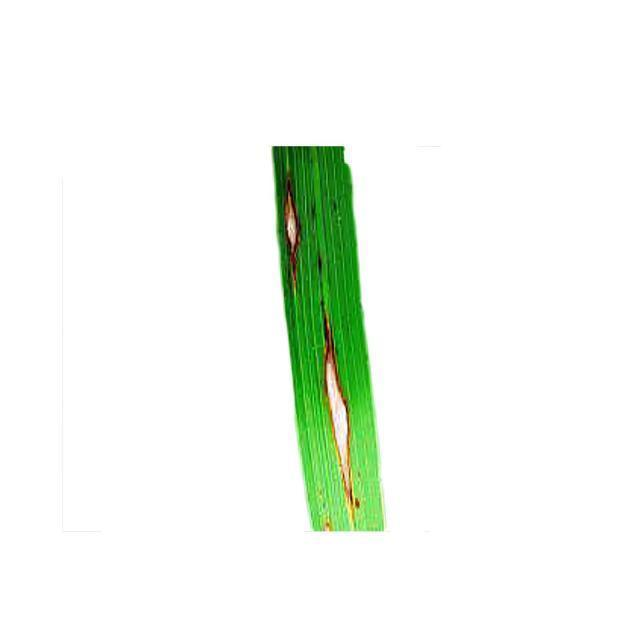Leaf_Blast: (303, 312, 376, 519), (274, 167, 311, 280)
